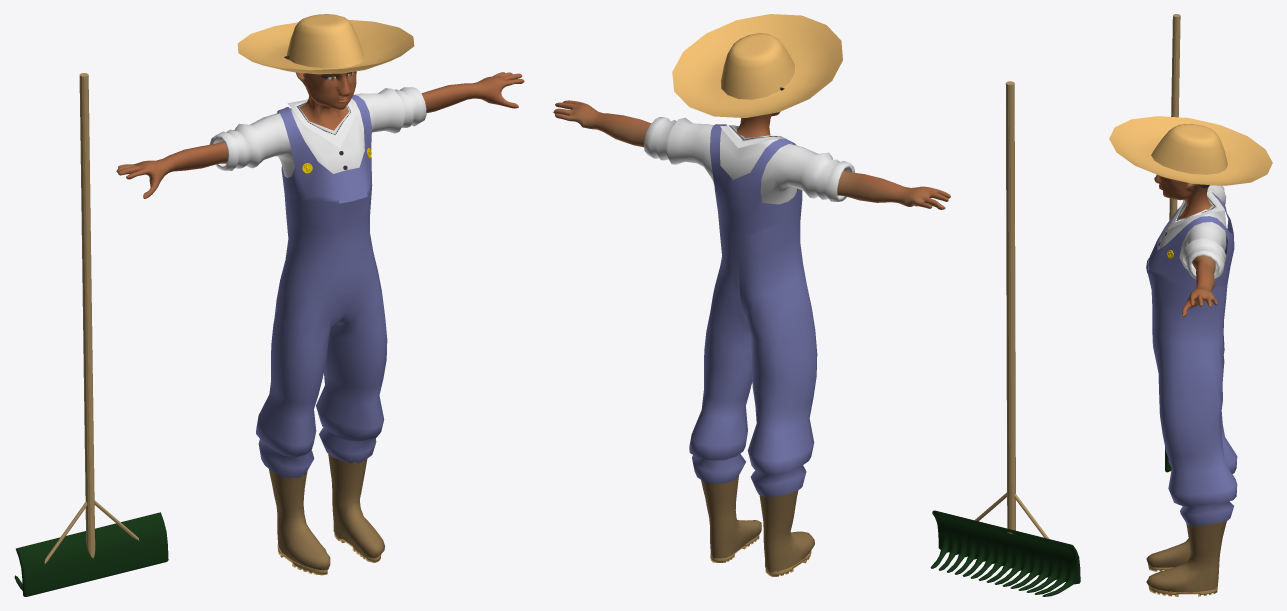
Rendered from agricultor.fbx.
The picture shows the model from 3 angles, left to right: view 1: azimuth 30°, elevation 25°; view 2: azimuth 150°, elevation 25°; view 3: azimuth 270°, elevation 25°; orthographic projection. The views are drawn at different scales.
Visible parts, largest first — view 1: prensa_personaje_director11, rastrilo, prensa_personaje_director10, pCylinder2, botas1, prensa_personaje_director8; view 2: prensa_personaje_director11, pCylinder2, rastrilo, prensa_personaje_director10, botas1, prensa_personaje_director8; view 3: prensa_personaje_director11, pCylinder2, botas1, prensa_personaje_director10, prensa_personaje_director8, rastrilo.
Boxes of the visible parts, <box> form: prensa_personaje_director11: <box>256,94,387,477</box>; rastrilo: <box>14,73,168,596</box>; prensa_personaje_director10: <box>209,87,426,177</box>; pCylinder2: <box>237,14,414,74</box>; botas1: <box>269,454,384,575</box>; prensa_personaje_director8: <box>116,71,524,198</box>; prensa_personaje_director11: <box>689,124,817,497</box>; pCylinder2: <box>672,14,842,117</box>; rastrilo: <box>930,81,1080,596</box>; prensa_personaje_director10: <box>643,117,854,204</box>; botas1: <box>701,476,814,576</box>; prensa_personaje_director8: <box>553,100,950,209</box>; prensa_personaje_director11: <box>1146,191,1237,526</box>; pCylinder2: <box>1109,116,1272,185</box>; botas1: <box>1146,521,1226,596</box>; prensa_personaje_director10: <box>1158,185,1226,280</box>; prensa_personaje_director8: <box>1154,174,1217,317</box>; rastrilo: <box>1165,14,1180,472</box>.
Bounding box in the file's own units: 16.36 × 16.37 × 5.28.
